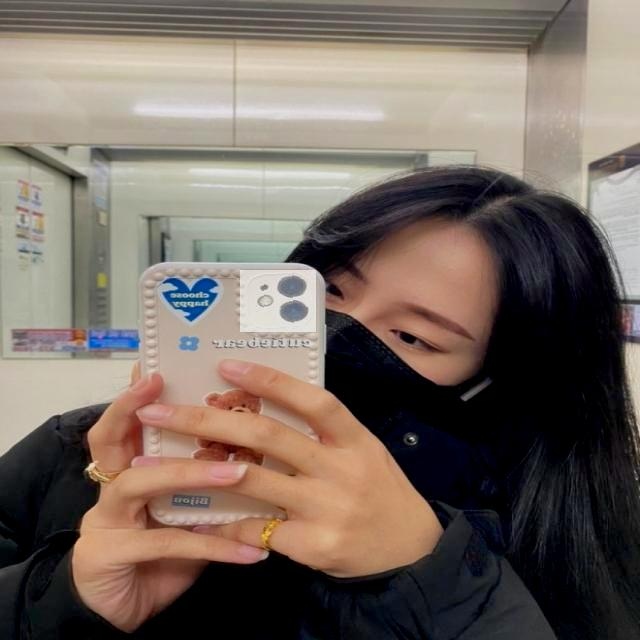lens: (241, 270, 317, 332)
phone: (135, 259, 331, 525)
